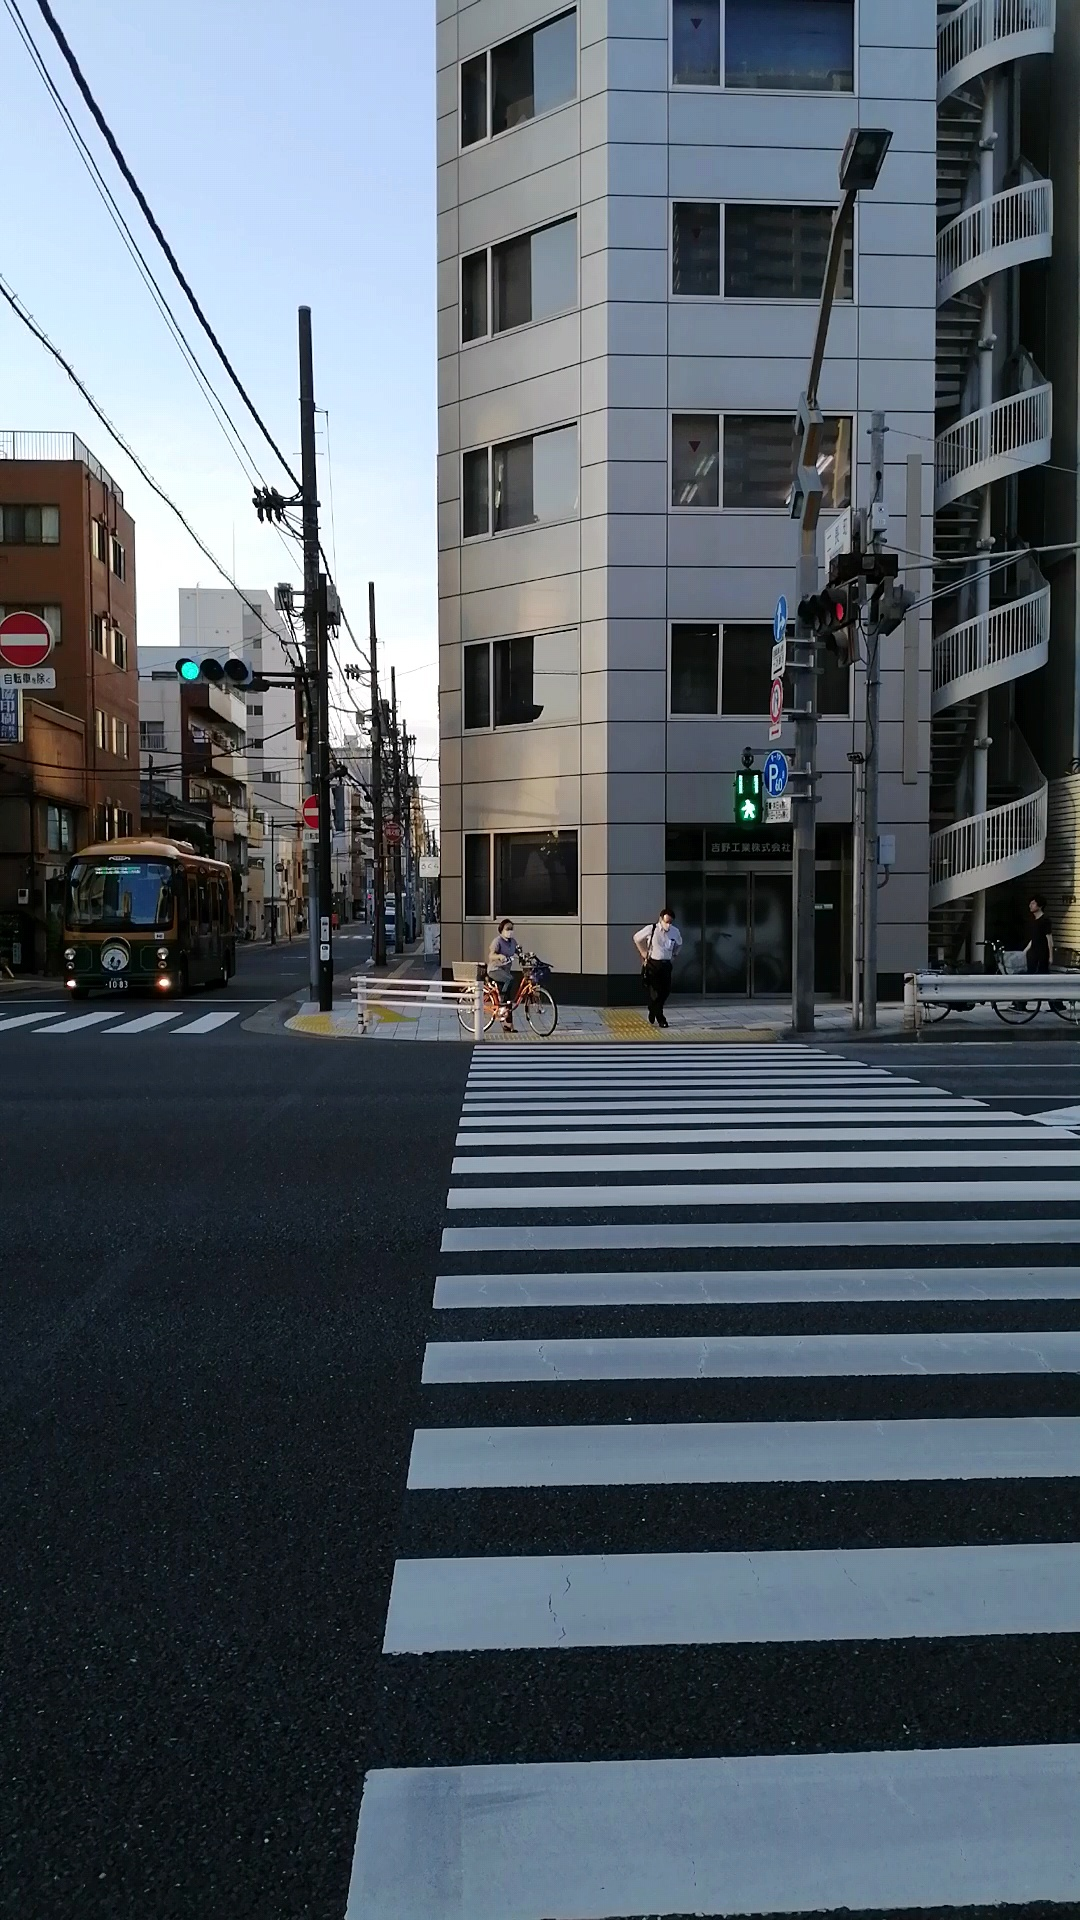green: (733, 767, 764, 827)
